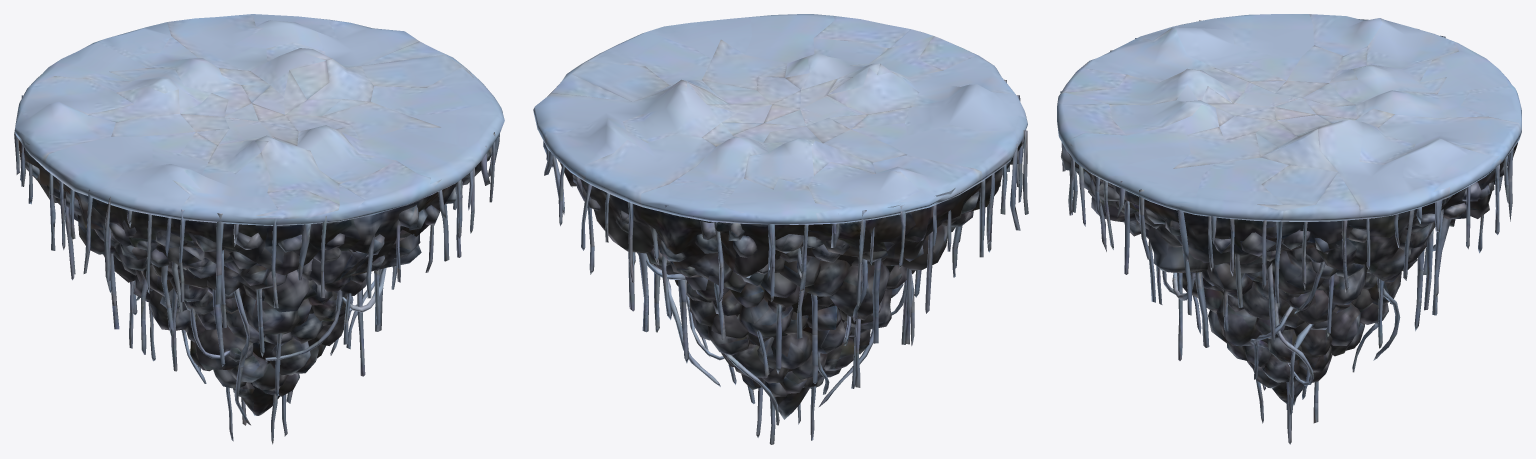
Rendered from p-island.glb.
3 views of the same model, side by side, from view 1: azimuth 30°, elevation 25°; view 2: azimuth 150°, elevation 25°; view 3: azimuth 270°, elevation 25° (orthographic). The views are drawn at different scales.
Visible parts, largest first — view 1: Mesh_0; view 2: Mesh_0; view 3: Mesh_0.
Part boxes in pixels (x1,y1,x2,y2): Mesh_0: (14,14,504,444); Mesh_0: (533,14,1028,444); Mesh_0: (1057,14,1521,444).
Bounding box in the file's own units: 1 × 0.8241 × 1.
1 material, 1 textured.
